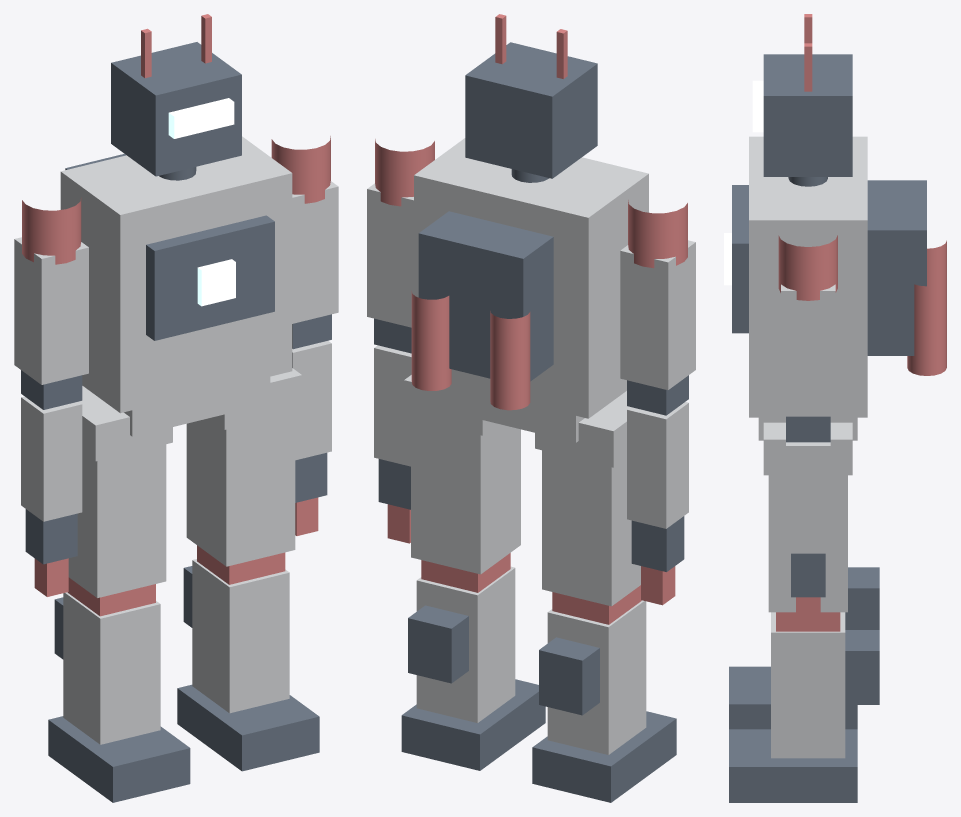
The model's file is robo.glb.
The picture shows the model from 3 angles, left to right: view 1: azimuth 30°, elevation 25°; view 2: azimuth 150°, elevation 25°; view 3: azimuth 270°, elevation 25°; orthographic projection.
Parts seen in each view (by area): view 1: torso, thigh_R, shin_R, shin_L, head, thigh_L, torso_front, upper_arm_L, foot_L, foot_R, forearm_L, upper_arm_R (+18 smaller); view 2: torso, backpack, thigh_R, head, thigh_L, upper_arm_L, shin_R, shin_L, foot_L, forearm_L, foot_R, upper_arm_R (+18 smaller); view 3: torso, head, shin_R, backpack, foot_R, upper_arm_R, thigh_R, forearm_R, booster_R, foot_L, shoulder_R, thruster_R (+12 smaller).
Part boxes in pixels (<box>): torso: <box>60,136,292,413</box>; thigh_R: <box>186,413,295,566</box>; shin_R: <box>192,559,289,713</box>; shin_L: <box>63,592,160,744</box>; head: <box>111,42,241,176</box>; thigh_L: <box>68,444,166,597</box>; torso_front: <box>146,215,274,340</box>; upper_arm_L: <box>14,237,88,384</box>; foot_L: <box>48,716,190,802</box>; foot_R: <box>177,684,319,771</box>; forearm_L: <box>21,396,82,521</box>; upper_arm_R: <box>292,181,338,323</box>; torso: <box>414,138,648,418</box>; backpack: <box>418,211,553,381</box>; thigh_R: <box>411,418,520,574</box>; head: <box>465,42,597,178</box>; thigh_L: <box>542,450,640,606</box>; upper_arm_L: <box>620,240,695,389</box>; shin_R: <box>416,566,515,722</box>; shin_L: <box>547,600,646,754</box>; foot_L: <box>532,711,676,802</box>; forearm_L: <box>627,402,688,528</box>; foot_R: <box>401,679,545,770</box>; upper_arm_R: <box>367,183,413,327</box>; torso: <box>749,136,867,417</box>; head: <box>763,54,852,176</box>; shin_R: <box>771,612,845,758</box>; backpack: <box>867,180,926,355</box>; foot_R: <box>729,729,857,802</box>; upper_arm_R: <box>781,284,835,416</box>; thigh_R: <box>768,475,847,612</box>; forearm_R: <box>786,442,830,553</box>; booster_R: <box>907,278,946,375</box>; foot_L: <box>729,666,857,729</box>; shoulder_R: <box>778,235,837,300</box>; thruster_R: <box>845,630,879,704</box>.
Bounding box in the file's own units: 12.25 × 28.17 × 7.87.
